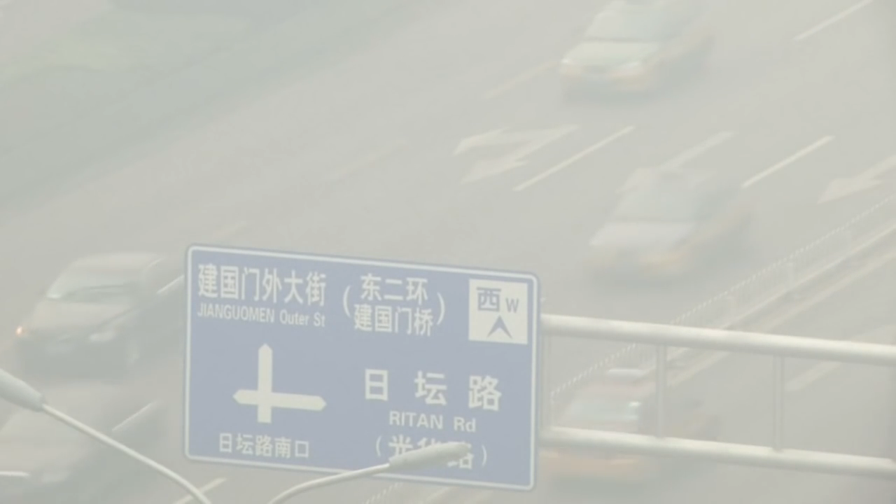car: (9, 247, 215, 378), (532, 364, 720, 491), (582, 163, 756, 283), (556, 1, 721, 103)
